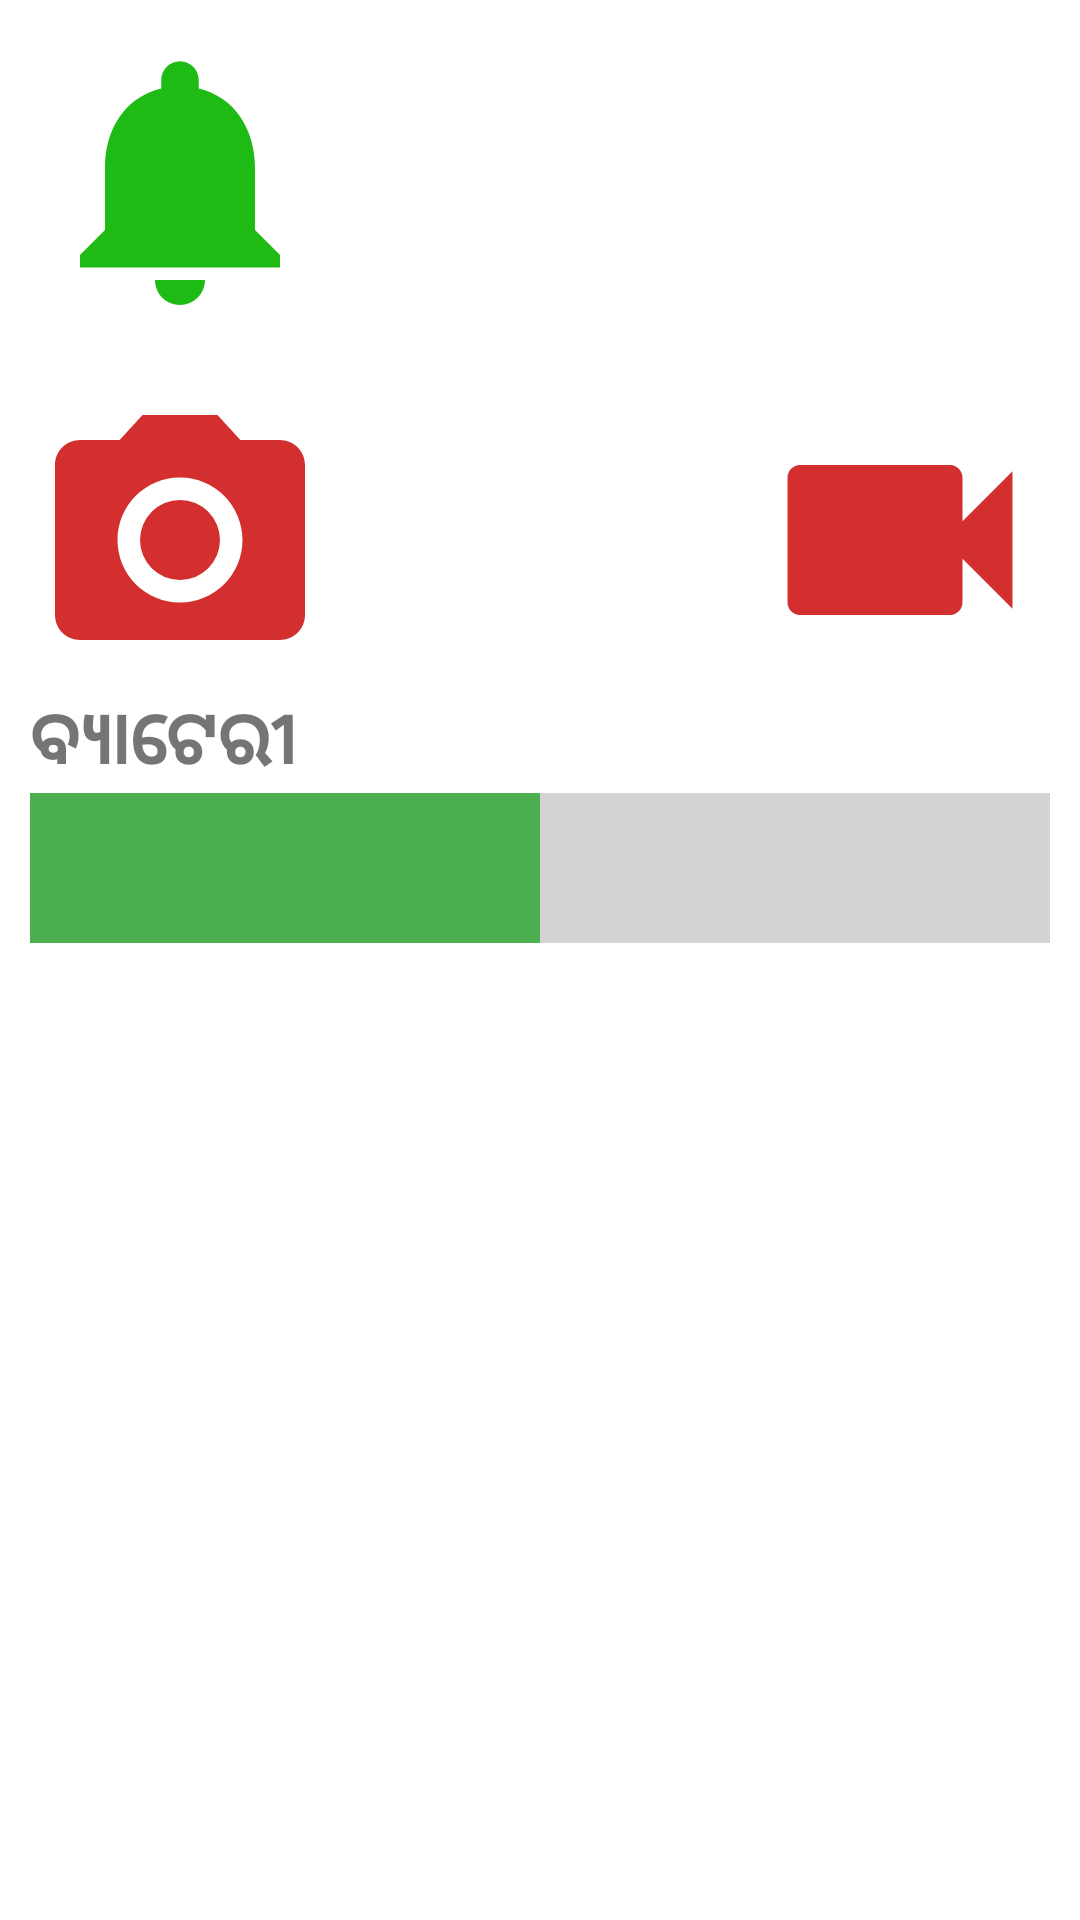

Screen size 1080w x 1920h. Icon name, then its center in pixels as point (x, y):
camera: point (180, 527)
notifications: point (180, 183)
videocam: point (900, 540)
